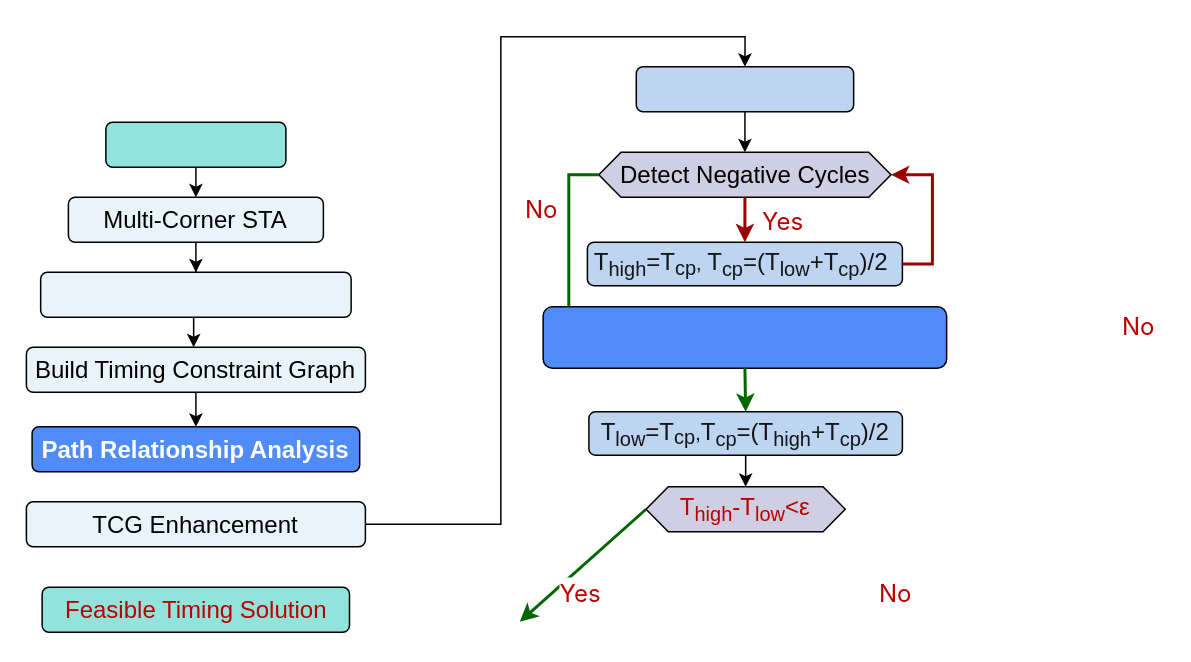
The diagram is 1191 pixels wide and 662 high, and some of its shapes have lost their labels. The shapes that lost their labels are listed below. From the top down, each one's centre as x and y in pixels, then its label:
At (744,88): "T cp =(T low + T high )/2".
At (195,144): "Circuit Design".
At (195,294): "Timing Info. Extraction".
At (744,336): "Dual Decomposition Delay Padding Solver (Multi-Corner)".
